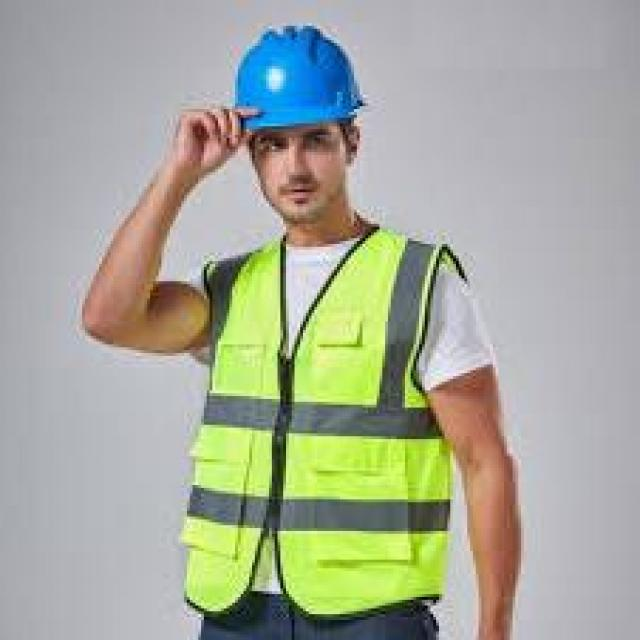Reflective-Jacket: (172, 215, 476, 626)
Safety-Helmet: (218, 17, 380, 141)
